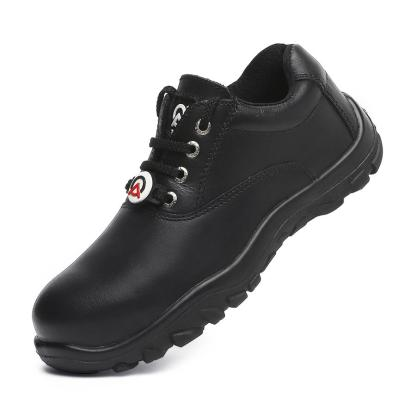bota: (26, 36, 388, 382)
